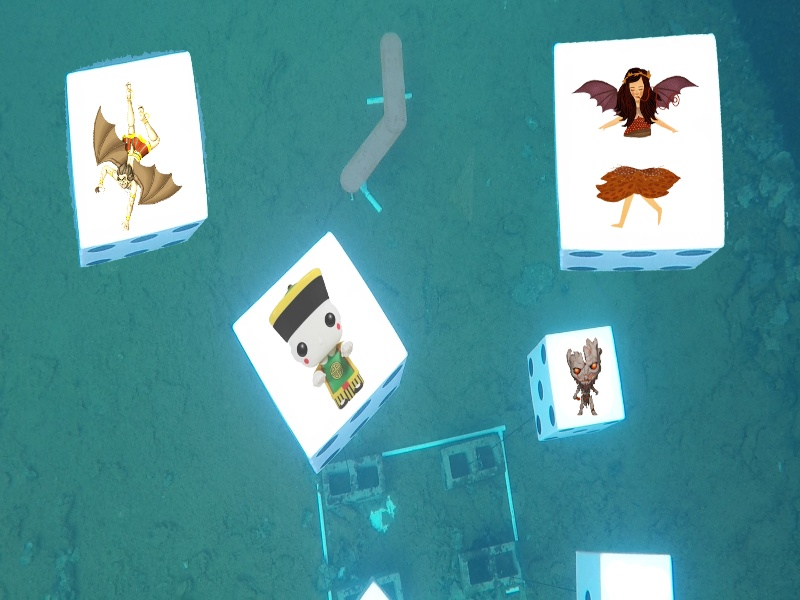Aswang: (569, 65, 702, 229)
Draugr: (563, 336, 604, 417)
Jiangshi: (265, 264, 369, 410)
Vetalas: (85, 79, 181, 230)
